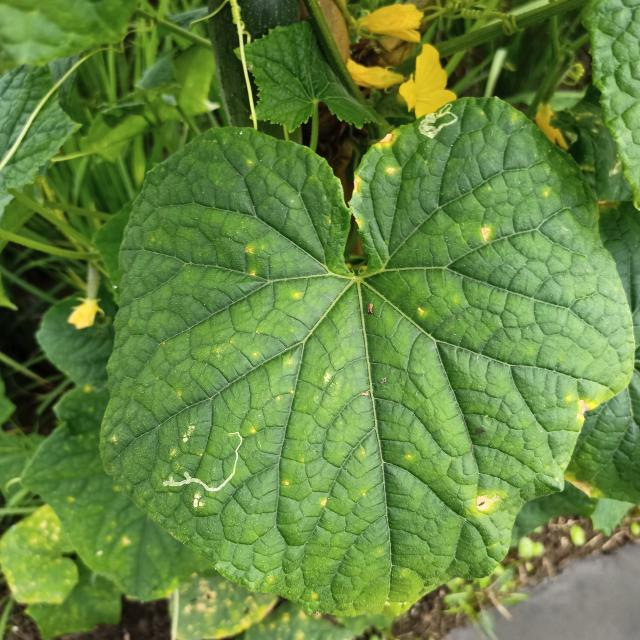disease_cucumber: (374, 132, 404, 178), (473, 490, 504, 518), (568, 393, 599, 421), (244, 244, 265, 283), (477, 226, 494, 243)
